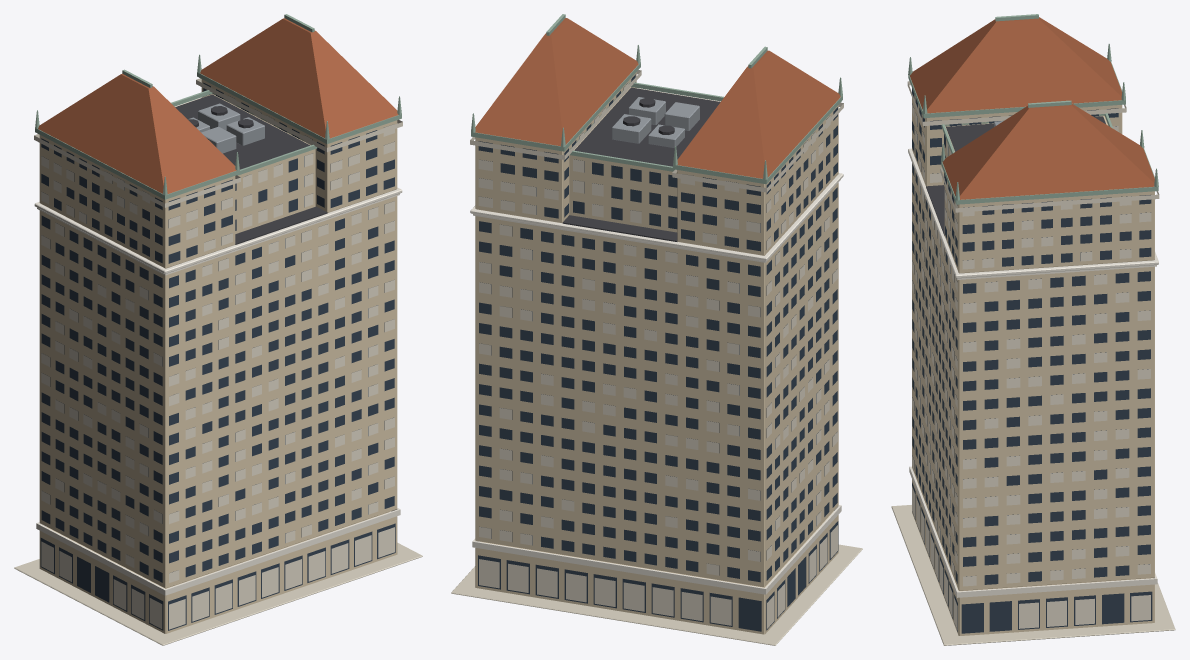
The model's file is hunter-dulin-building.glb.
The picture shows the model from 3 angles, left to right: view 1: azimuth 30°, elevation 25°; view 2: azimuth 150°, elevation 25°; view 3: azimuth 270°, elevation 25°; orthographic projection. The views are drawn at different scales.
Parts seen in each view (by area): view 1: hunter-dulin-building_body, hunter-dulin-building_night_glow; view 2: hunter-dulin-building_body, hunter-dulin-building_night_glow; view 3: hunter-dulin-building_body, hunter-dulin-building_night_glow.
Boxes of the visible parts, bbox=[...] form: hunter-dulin-building_body: bbox=[14, 14, 422, 645]; hunter-dulin-building_night_glow: bbox=[34, 78, 402, 629]; hunter-dulin-building_body: bbox=[451, 14, 862, 645]; hunter-dulin-building_night_glow: bbox=[470, 70, 843, 628]; hunter-dulin-building_body: bbox=[891, 14, 1175, 645]; hunter-dulin-building_night_glow: bbox=[907, 81, 1159, 630].
Size of the model in its own units: 61.06 by 93.88 by 47.45.
